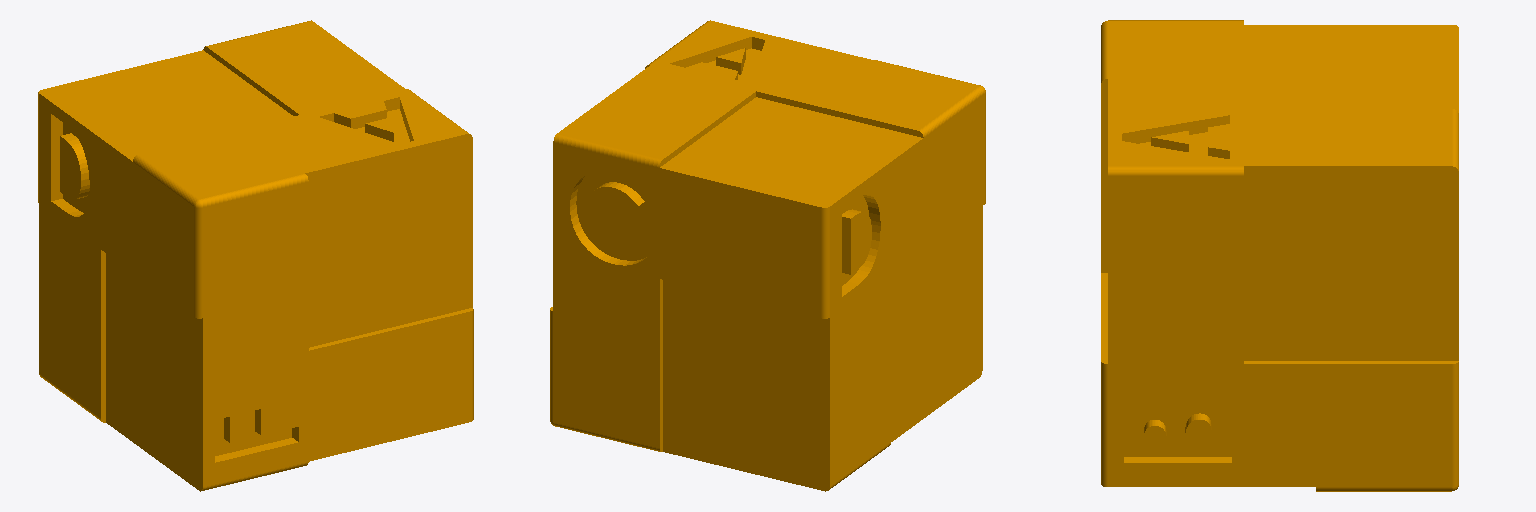
robot.urdf — small_cube:
<?xml version="1.0"?>
<robot name="small_cube">
  <link name="small_cube">
    <visual>
      <origin xyz="0 0 0"/>
      <geometry>
        <mesh filename="meshes/small_cube.obj" scale="1 1 1"/>
      </geometry>
    </visual>

    <collision>
      <origin xyz="0 0 0"/>
      <geometry>
        <mesh filename="meshes/small_cube.obj" scale="1 1 1"/>
      </geometry>
    </collision>

    <inertial>
      <mass value="0.035"/>
      <density value="280.0"/>
      <inertia ixx="5.83333333e-5" ixy="0.0" ixz="0.0" iyy="5.83333333e-5" iyz="0.0" izz="5.83333333e-5"/>
    </inertial>
  </link>
</robot>

--- Render facts (derived) ---
The picture shows the robot from 3 angles, left to right: view 1: azimuth 30°, elevation 25°; view 2: azimuth 150°, elevation 25°; view 3: azimuth 270°, elevation 25°; orthographic projection.
Model small_cube with 1 links and 0 joints (none), rooted at small_cube, posed every joint at zero.
Visible links, largest first — view 1: small_cube; view 2: small_cube; view 3: small_cube.
Boxes of the visible links, x1,y1,x2,y2 form: small_cube: (38,20,473,491); small_cube: (550,20,985,491); small_cube: (1101,20,1458,491).
Size in the robot's own frame: 0.05 by 0.05 by 0.05 metres.
1 mesh visuals loaded from 1 distinct referenced files (1 OBJ).
